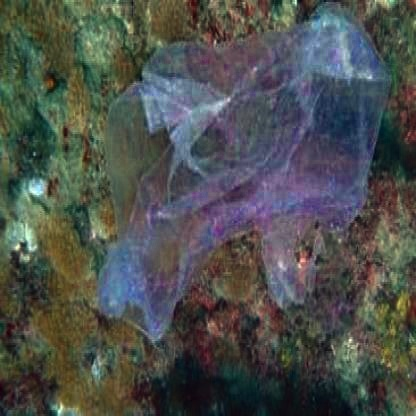plastic: (106, 71, 384, 302)
